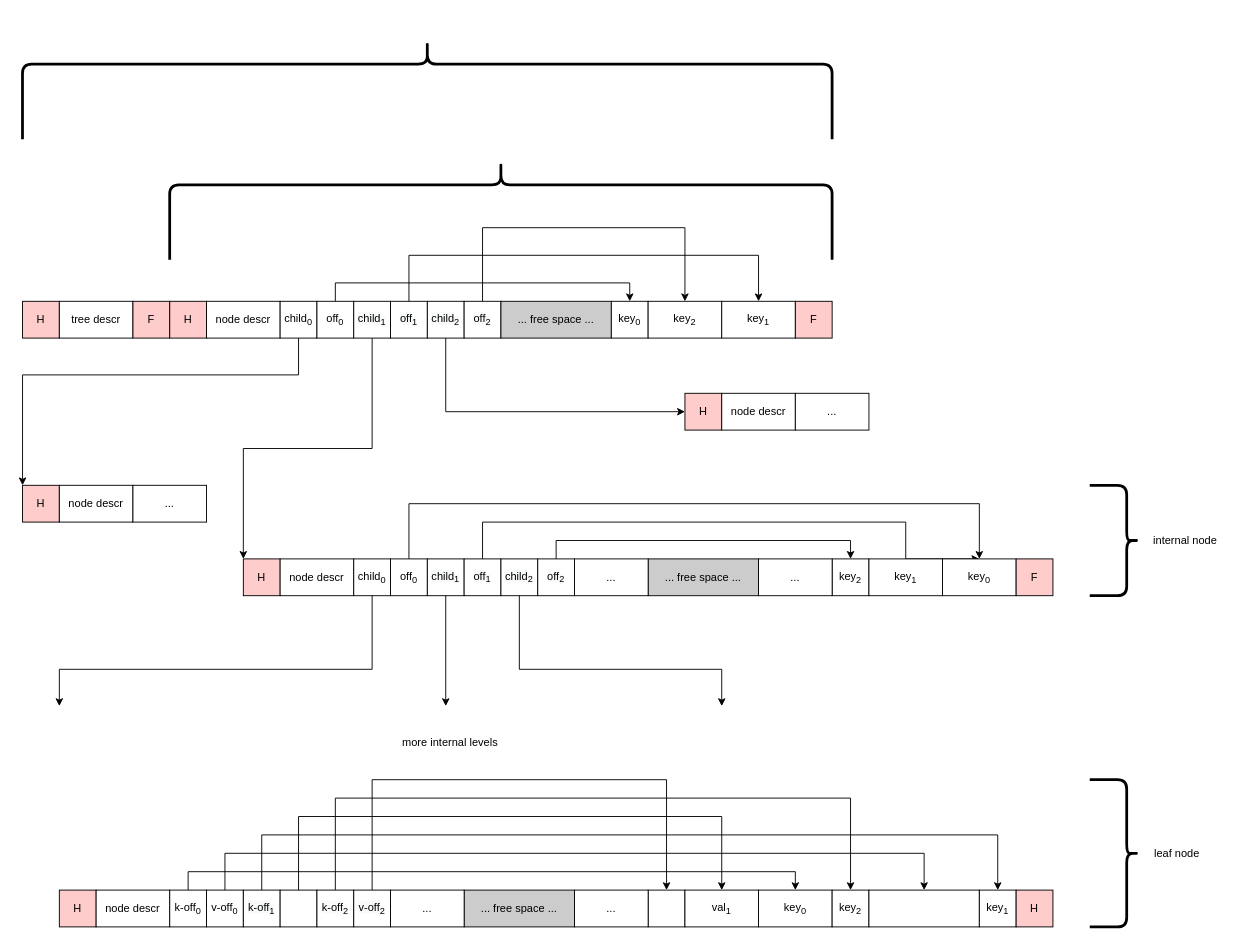
Some shapes in this 1242 by 944 pixel diagram are drawn without their labels. The shapes that lost their labels are listed below. From the top down, each one's centre as x and y in pixels, then its label:
At point 427,89: "btree".
At point 500,210: "root node".
At point 298,908: "v-off 1".
At point 666,908: "val 2".
At point 923,908: "val 0".
